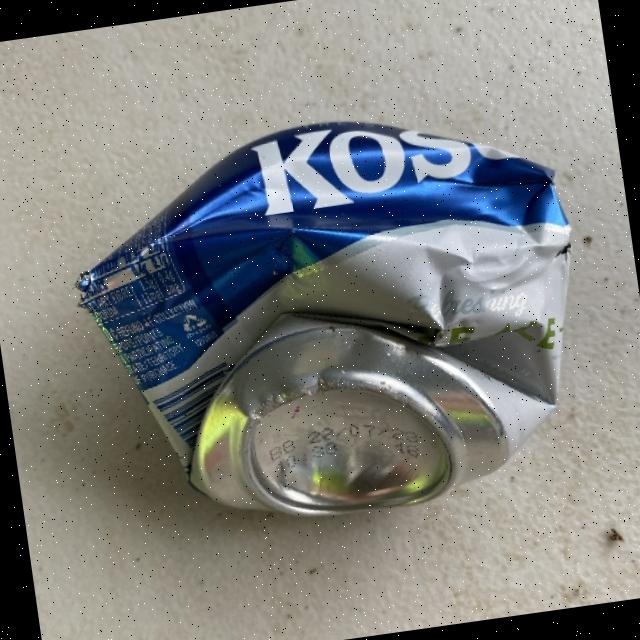metal: (40, 57, 615, 551)
